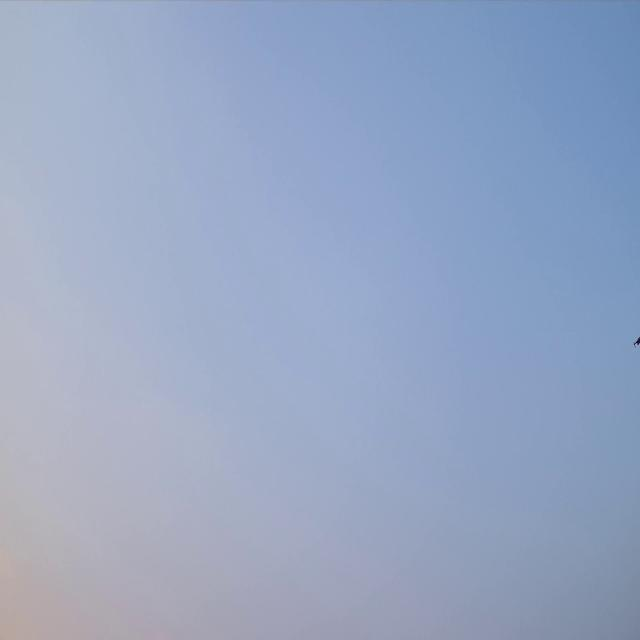UAV: (634, 337, 640, 346)
